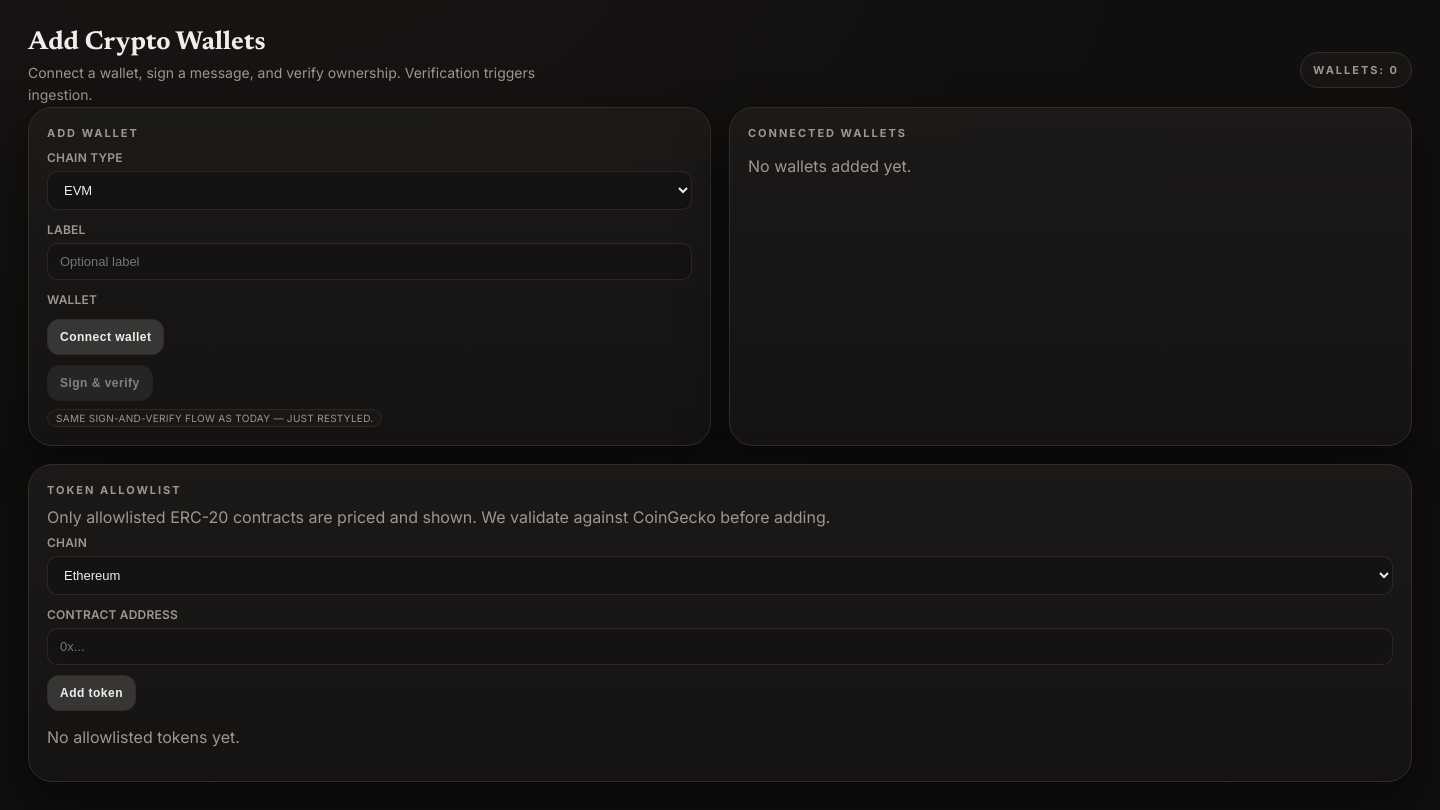
it: CryptoWallets route › shows EVM connect error when requestAccounts fails
The image size is (1440, 810).
Click the button "Connect wallet" at (106, 337), box [47,319,164,355]
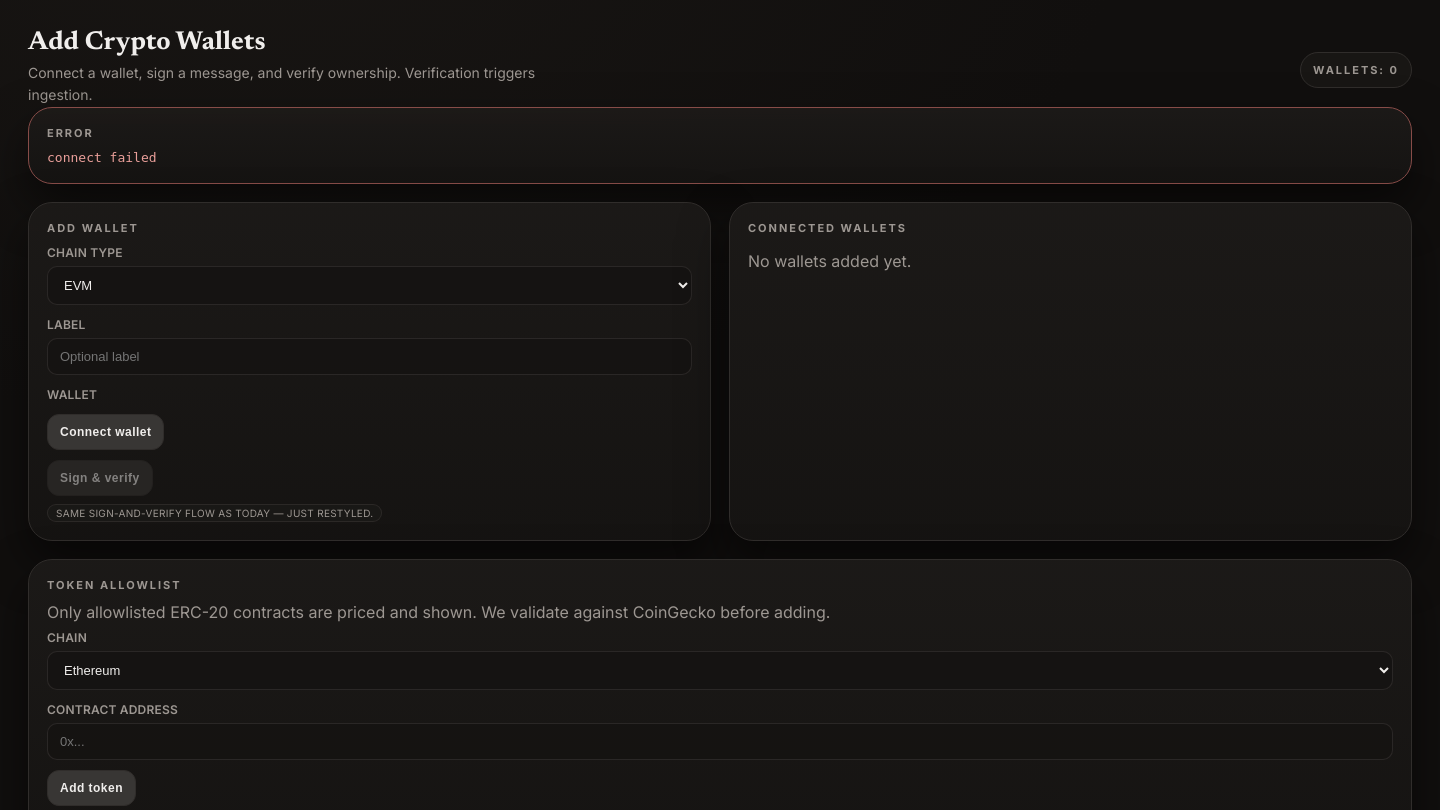
Result: the text "connect failed" is shown at [47,150,157,165]
